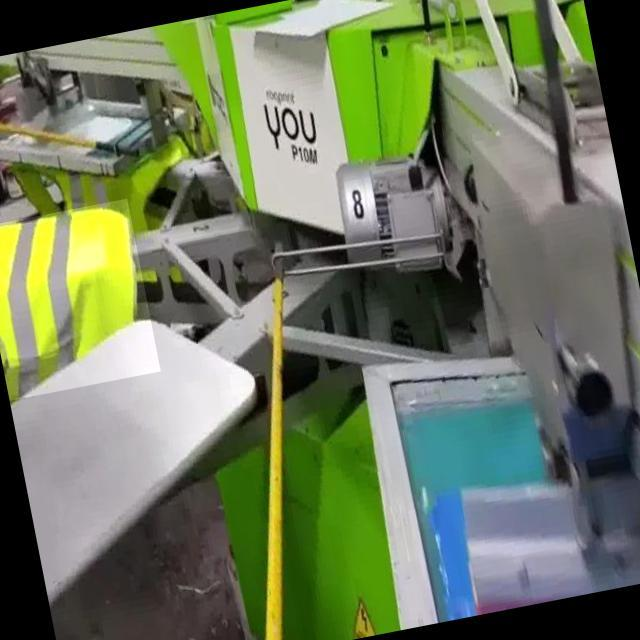Safety Vest: (0, 199, 161, 401)
